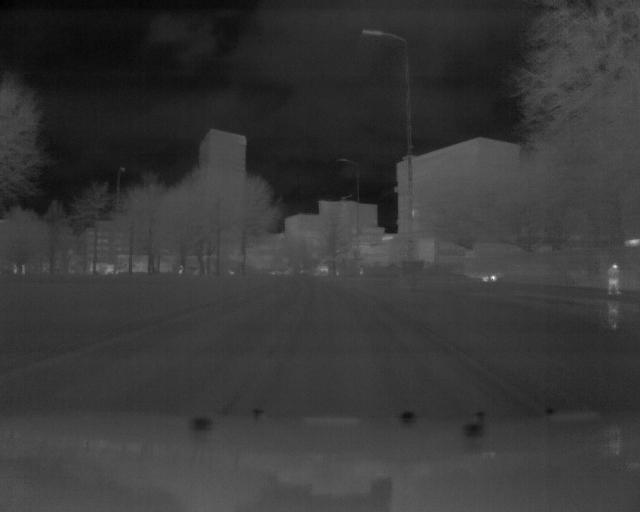person: (603, 261, 623, 297)
